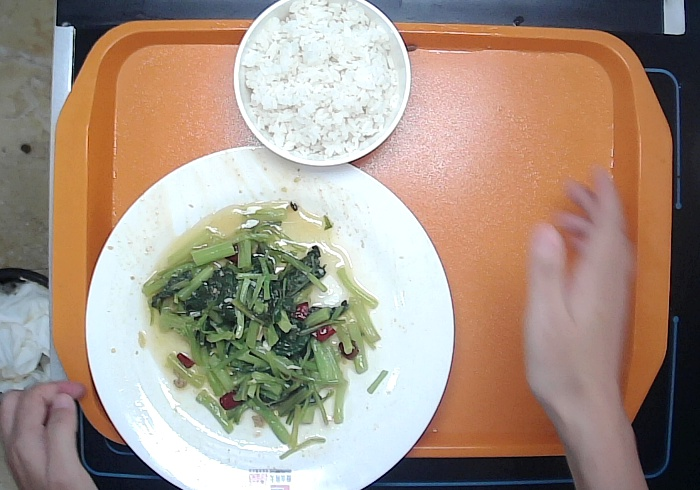ZNLD-Da_Yuan_Pan: (78, 140, 462, 490)
ZNLD-Fan_Wan: (229, 1, 418, 171)
